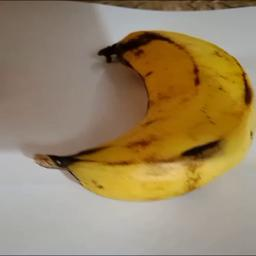Banana Semifresh: (32, 32, 256, 201)
